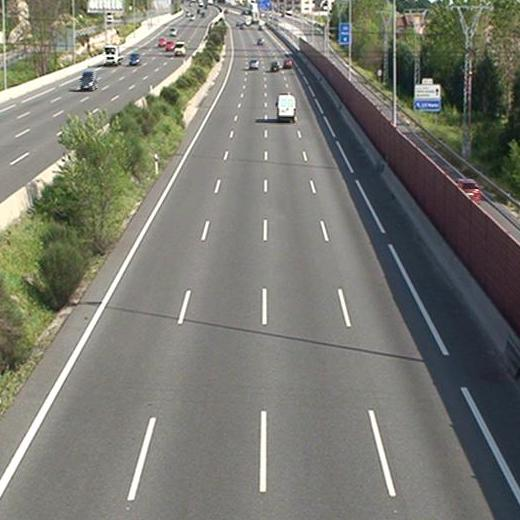car: (271, 61, 281, 71), (249, 58, 258, 69), (284, 58, 292, 68)
van: (277, 95, 296, 120)
